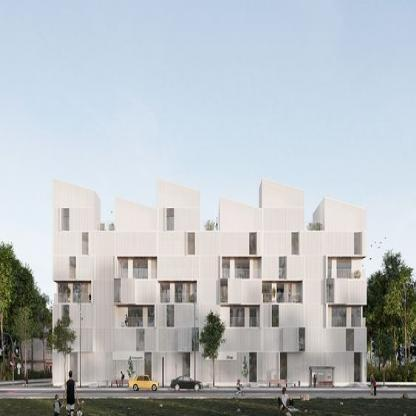Balcony: (263, 294, 302, 304), (328, 270, 366, 279), (54, 294, 91, 303), (118, 317, 143, 327), (235, 270, 261, 279), (221, 319, 244, 328), (135, 269, 158, 278), (305, 221, 324, 231), (200, 221, 219, 231), (175, 294, 195, 303), (328, 319, 347, 328), (98, 223, 115, 232), (351, 319, 365, 328), (249, 319, 259, 328), (160, 294, 170, 303), (117, 269, 127, 278), (222, 269, 230, 279), (148, 317, 154, 327)
Building Outline: (52, 178, 366, 386)
Facade: (53, 177, 368, 384)
Glass Wall: (332, 306, 361, 327), (128, 306, 154, 327), (230, 308, 256, 327), (262, 283, 284, 303), (121, 262, 148, 278), (59, 283, 81, 302), (222, 266, 249, 278), (162, 287, 182, 303), (337, 258, 351, 278)
Pillar: (272, 282, 277, 303), (143, 306, 148, 327), (68, 282, 73, 302), (170, 282, 175, 302), (128, 257, 133, 277), (332, 258, 336, 278), (245, 307, 249, 327), (230, 258, 234, 278), (347, 307, 351, 327)
Window: (116, 305, 157, 327), (263, 281, 303, 303), (158, 281, 197, 303), (117, 256, 157, 277), (221, 305, 259, 327), (222, 257, 261, 278), (182, 352, 190, 383), (144, 352, 152, 383), (70, 352, 78, 381), (280, 352, 287, 383), (249, 352, 256, 383), (354, 352, 361, 382), (191, 328, 199, 352), (220, 279, 228, 303), (166, 208, 174, 231), (61, 208, 69, 231), (346, 329, 354, 351), (291, 232, 299, 254), (166, 305, 174, 327), (271, 305, 279, 327), (62, 305, 70, 327), (81, 232, 89, 254), (327, 279, 334, 301), (188, 232, 195, 254), (249, 232, 256, 254), (137, 329, 144, 351), (354, 232, 361, 254), (299, 328, 305, 352), (114, 279, 120, 301), (70, 256, 76, 278)
